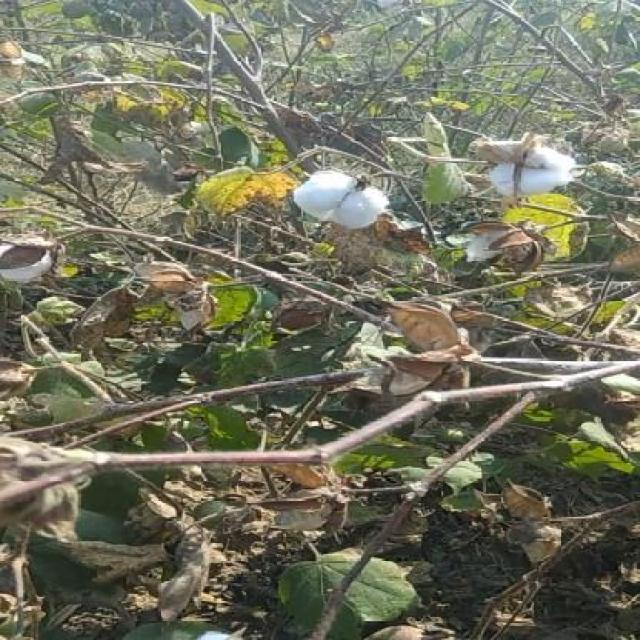cotton_ready: (467, 124, 598, 221), (279, 165, 410, 246)
